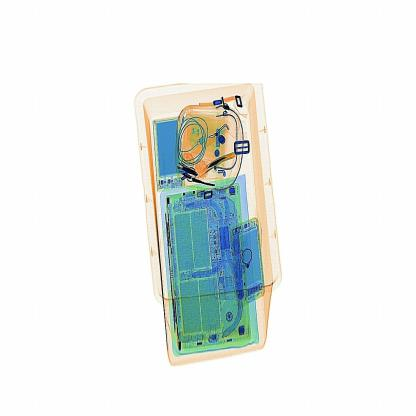wrench: (196, 144, 238, 175)
